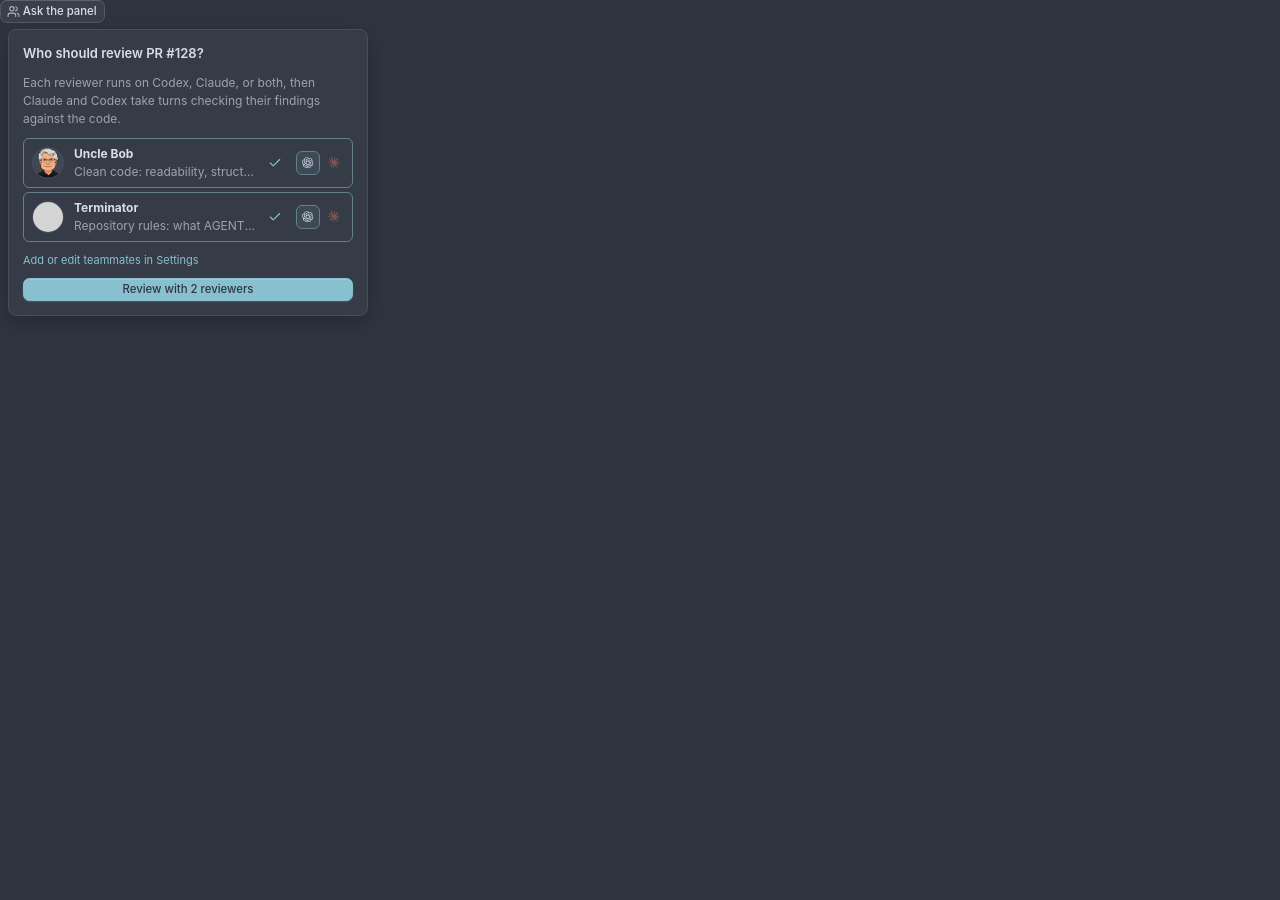
Test: a panel that is already running › opens the running panel and says why when another cannot start
The width and height of the screenshot is (1280, 900).
What coordinates should you click on to do the following:
click the button "Review with 2 reviewers"
I would click on:
 (188, 289)
Its box is left=23, top=278, right=353, bottom=301.
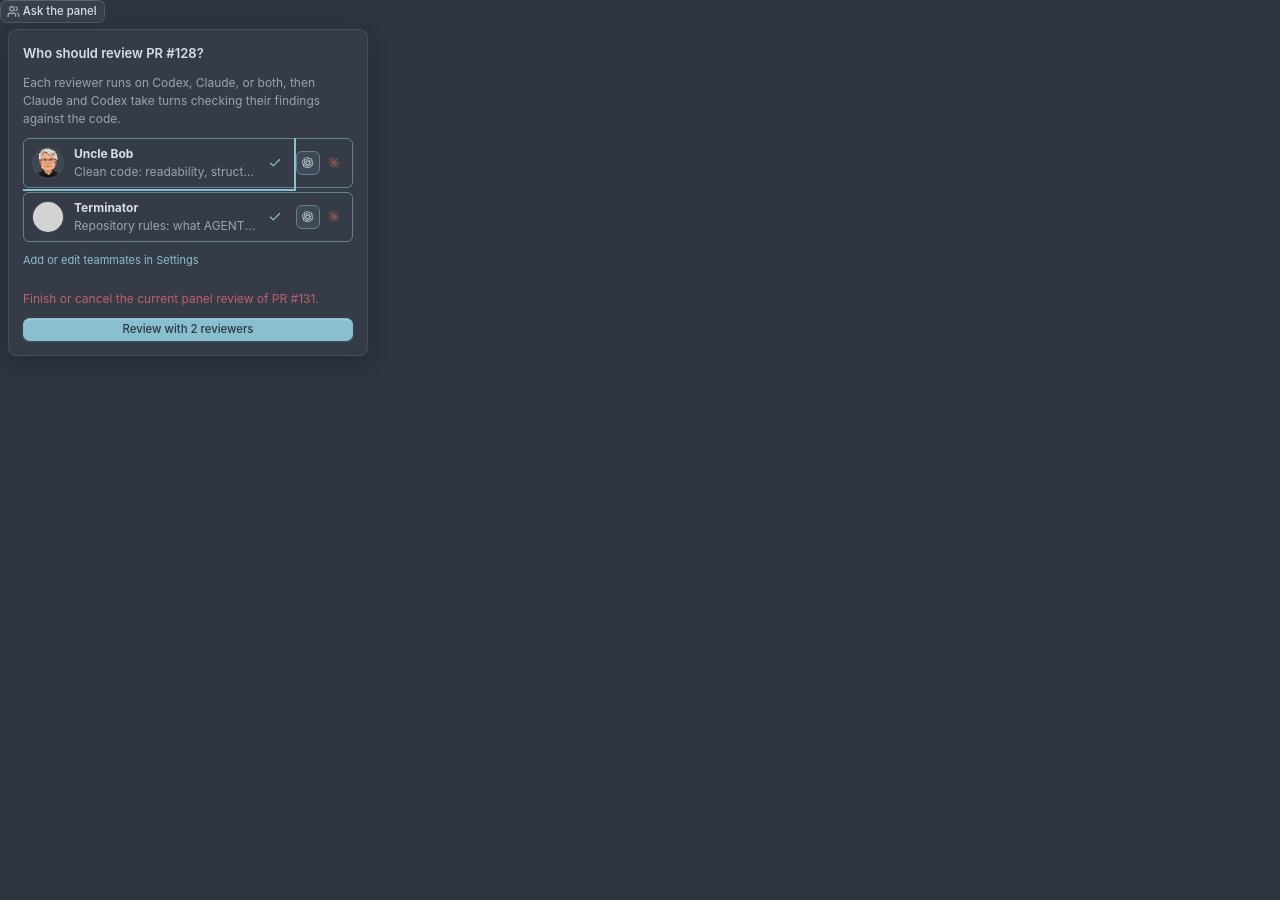
expect the text "Finish or cancel the current panel review of PR #131." is shown: met, box left=23, top=290, right=353, bottom=308
